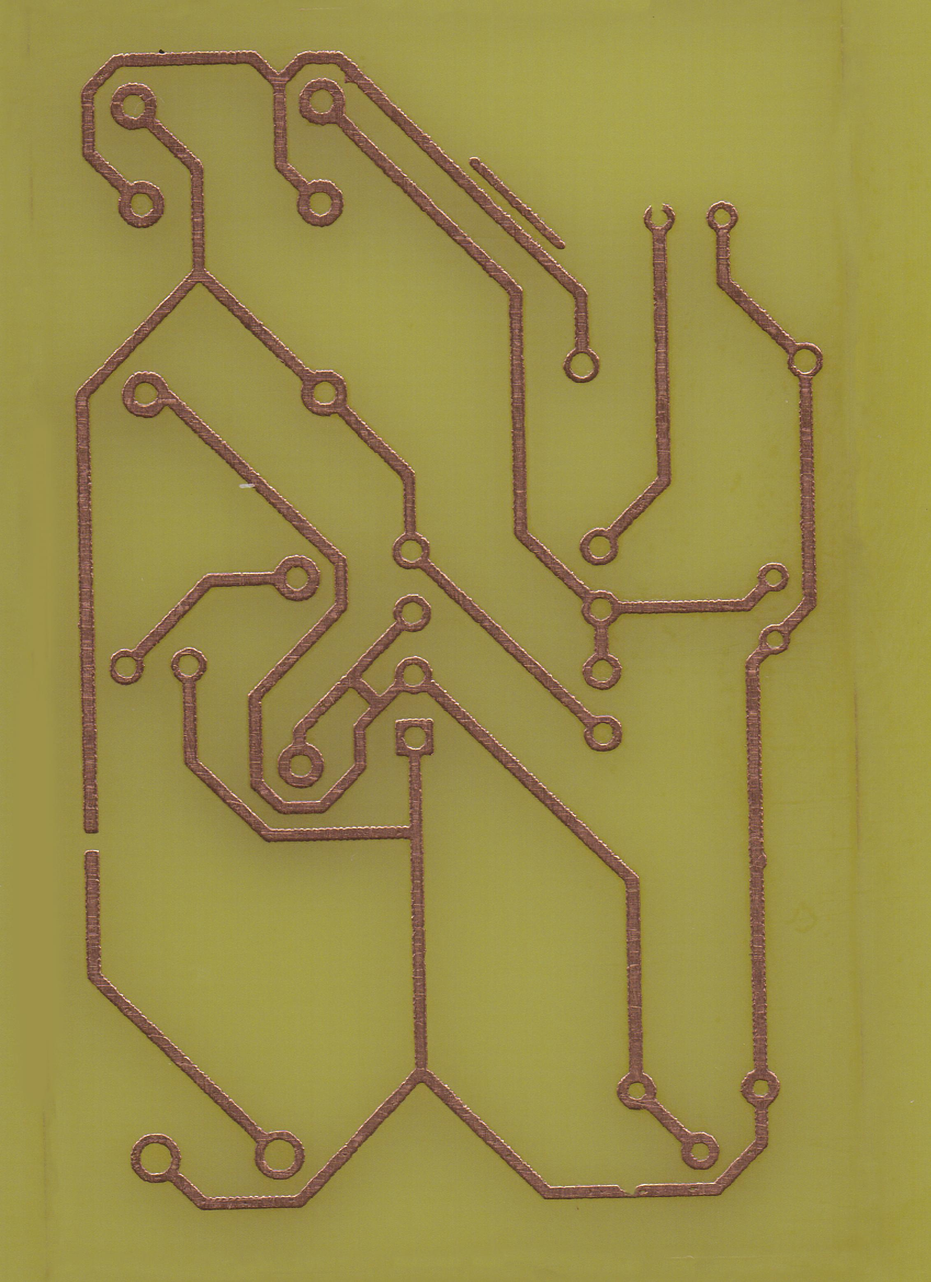missing_hole: (641, 201, 676, 239)
mouse_bite: (613, 1182, 649, 1203)
open_circuit: (79, 815, 103, 863)
short: (344, 673, 390, 717)
spurious_copper: (469, 154, 568, 253)
